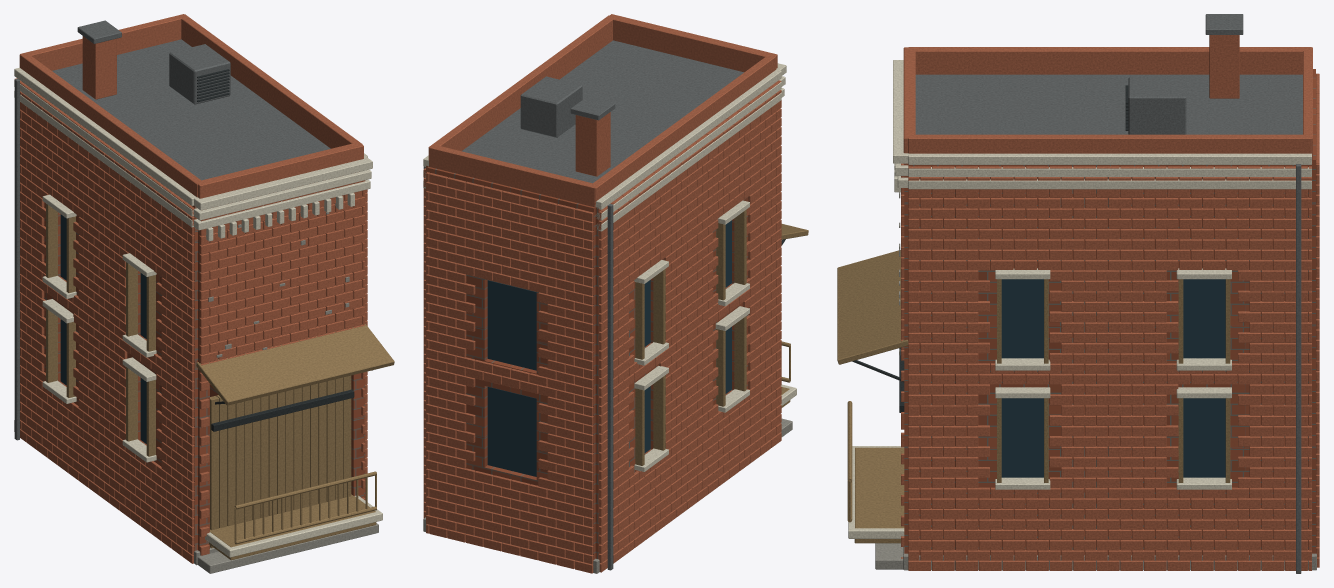
The model's file is WHSE23_lod0.glb.
3 views of the same model, side by side, from view 1: azimuth 30°, elevation 25°; view 2: azimuth 150°, elevation 25°; view 3: azimuth 270°, elevation 25° (orthographic). The views are drawn at different scales.
Visible parts, largest first — view 1: WHSE23_LOD0; view 2: WHSE23_LOD0; view 3: WHSE23_LOD0.
Boxes of the visible parts, bbox=[...] form: WHSE23_LOD0: bbox=[14, 14, 394, 573]; WHSE23_LOD0: bbox=[423, 14, 808, 573]; WHSE23_LOD0: bbox=[837, 14, 1319, 573].
Bounding box in the file's own units: 3.71 × 7.85 × 7.17.
Materials: 10 (9 with a texture image).
